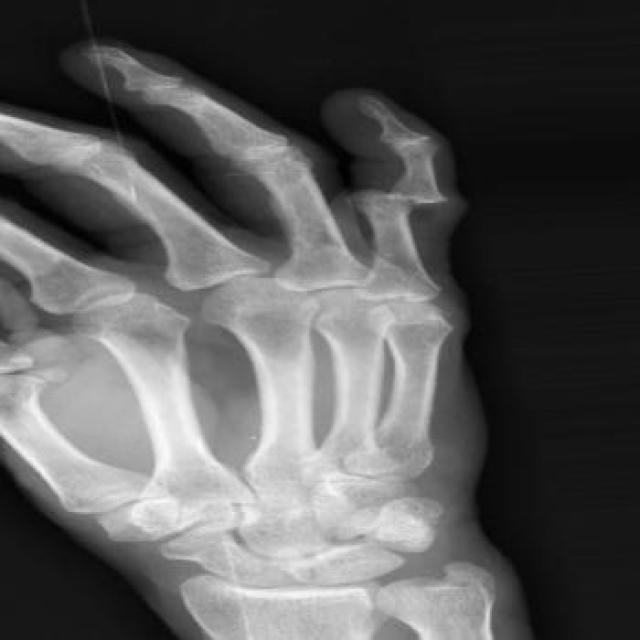Fracture: (363, 180, 460, 219)
